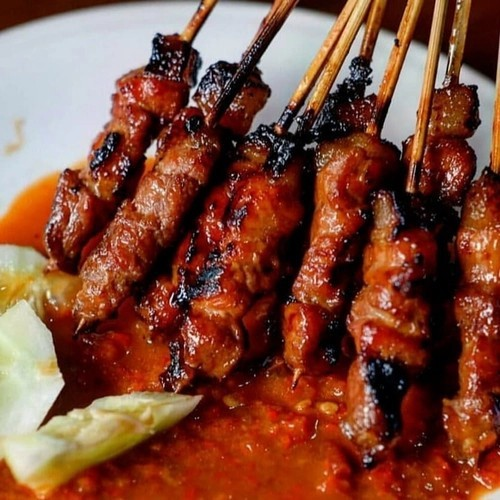sate plecing: (51, 28, 500, 438)
